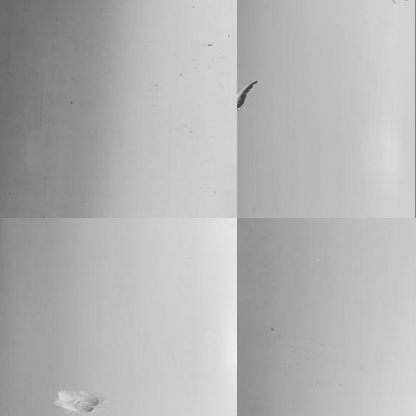kongdong: (237, 77, 256, 110)
sunshang: (50, 384, 105, 413)
